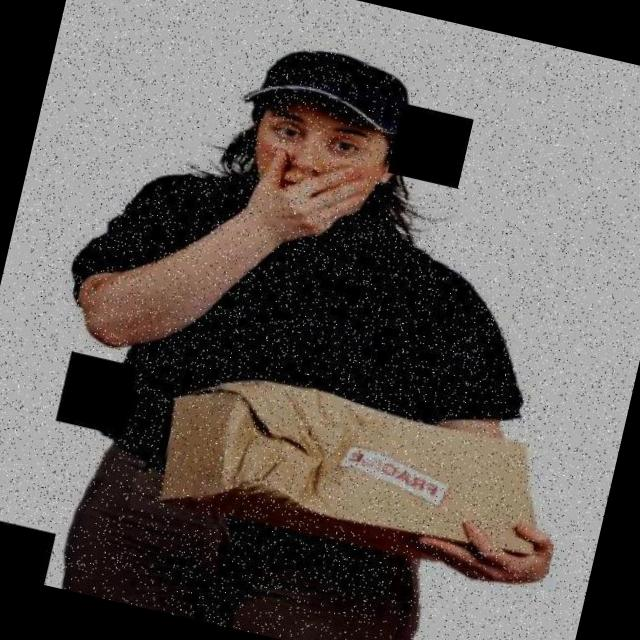box: (128, 343, 590, 606)
